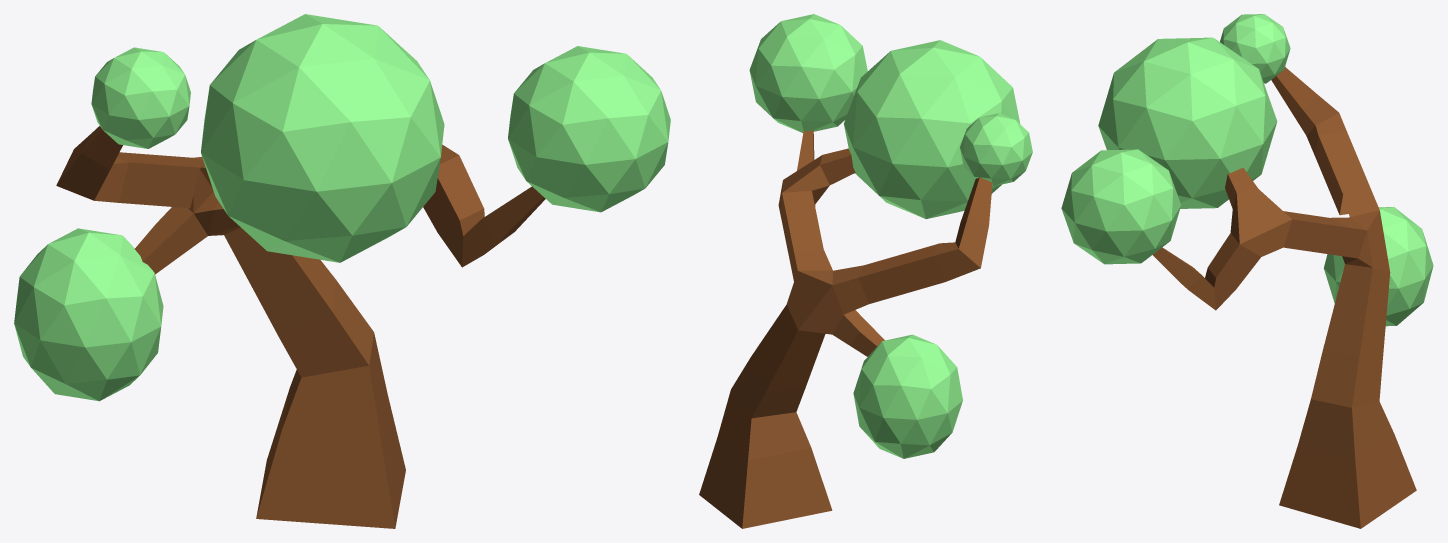
File: Smalltree2.fbx
3 renders of one model, left to right at view 1: azimuth 30°, elevation 25°; view 2: azimuth 150°, elevation 25°; view 3: azimuth 270°, elevation 25°, orthographic. The views are drawn at different scales.
Parts seen in each view (by area): view 1: Cube.005; view 2: Cube.005; view 3: Cube.005.
Boxes of the visible parts, <box> form: Cube.005: <box>14,14,670,528</box>; Cube.005: <box>699,14,1032,528</box>; Cube.005: <box>1061,14,1433,528</box>.
Size of the model in its own units: 3978 by 4747 by 3852.
